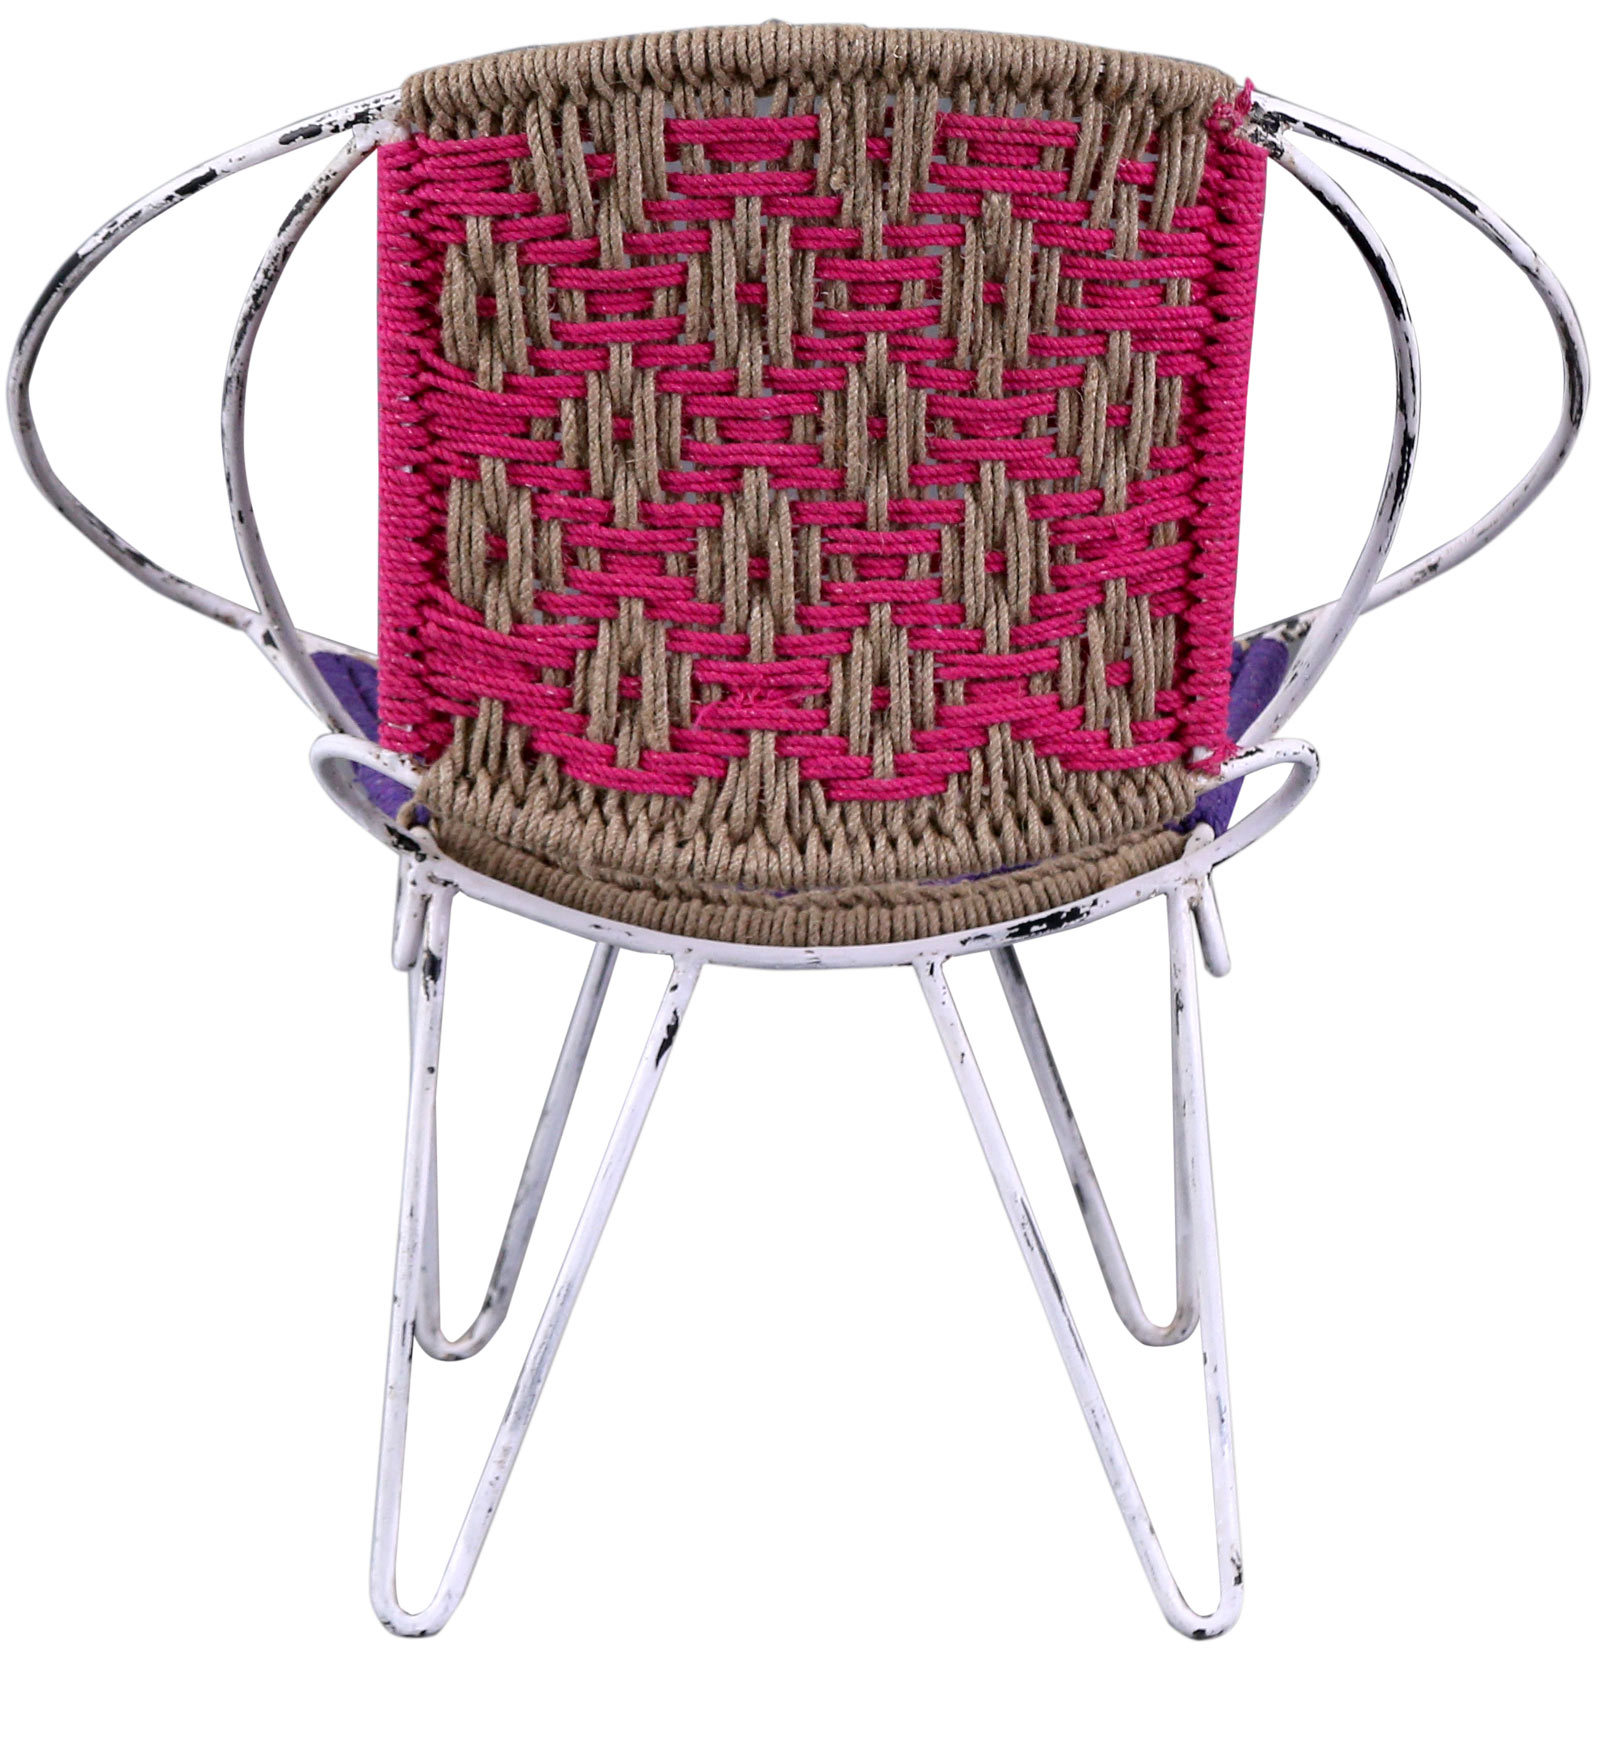Ambatovy Outdoor Chair in Multicolour by Bohemiana: (14, 34, 1600, 1637)
